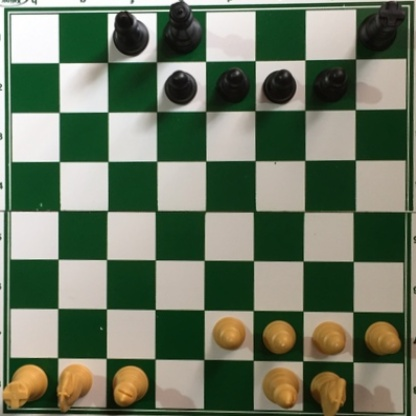black-bishop: (108, 9, 150, 57)
black-pawn: (310, 66, 352, 104), (216, 66, 251, 106), (163, 69, 199, 105), (263, 70, 297, 105)
black-queen: (161, 1, 204, 57)
black-rook: (359, 1, 410, 54)
white-bishop: (112, 362, 150, 409), (261, 366, 301, 410)
white-knight: (54, 361, 95, 415), (309, 369, 349, 416)
white-pawn: (310, 320, 348, 357), (261, 319, 298, 356), (211, 315, 246, 354), (363, 321, 401, 356)
white-rook: (1, 361, 50, 412)
